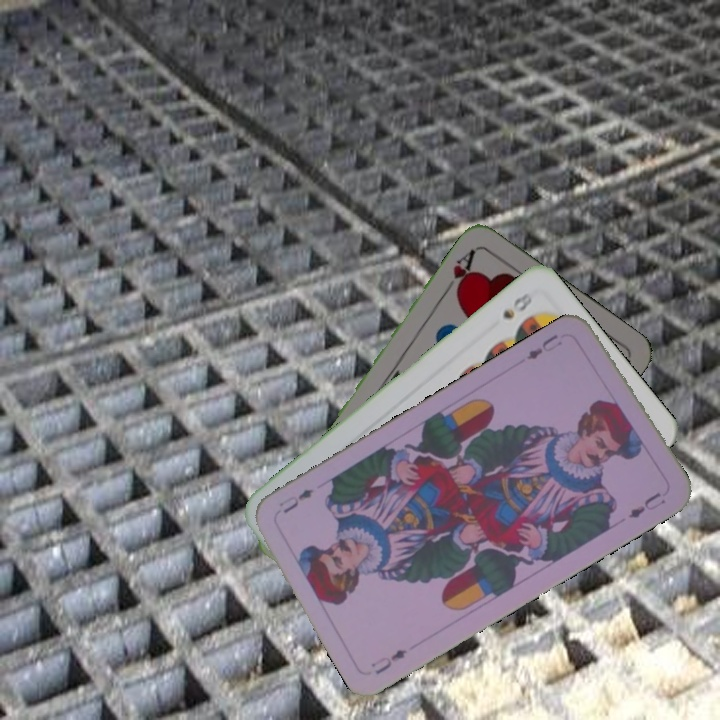EU: (367, 645, 409, 678), (522, 330, 561, 363)
HA: (440, 245, 479, 299)
S8: (498, 288, 535, 322)
